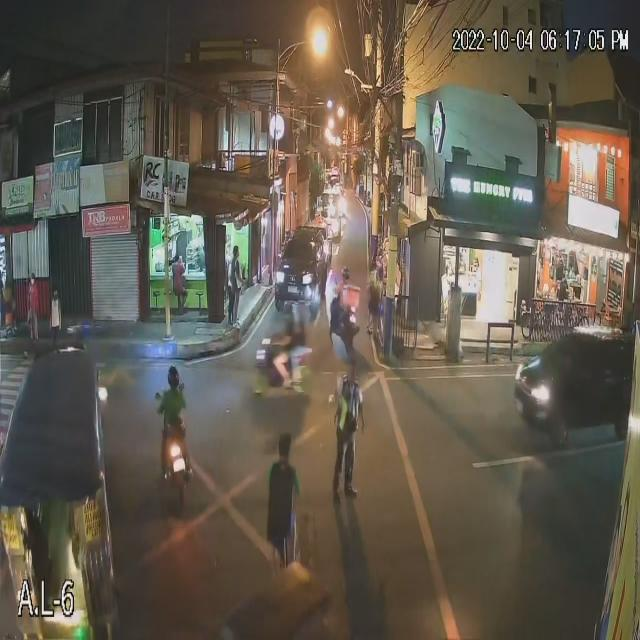helmet: (168, 365, 181, 386), (282, 307, 296, 324), (340, 267, 349, 282)
motorcycle: (253, 337, 314, 400), (157, 416, 194, 509), (329, 298, 361, 346)
rider: (154, 366, 188, 475), (264, 311, 305, 387), (329, 267, 355, 338)
